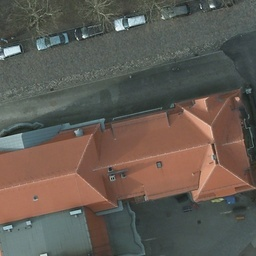car: (36, 30, 69, 51), (74, 21, 107, 41), (114, 14, 148, 32), (159, 4, 190, 20), (0, 41, 22, 62), (198, 0, 233, 13)
